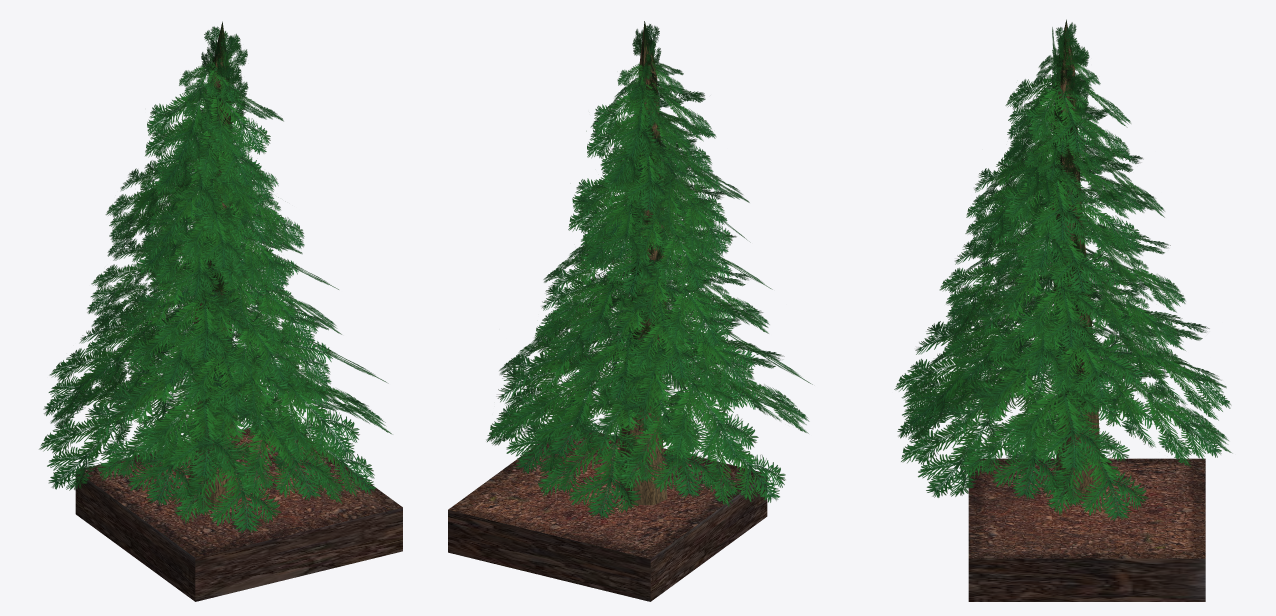
Rendered from GreenTree2023.glb.
3 renders of one model, left to right at view 1: azimuth 30°, elevation 25°; view 2: azimuth 150°, elevation 25°; view 3: azimuth 270°, elevation 25°, orthographic. The views are drawn at different scales.
Parts seen in each view (by area): view 1: SolidFloor; view 2: SolidFloor; view 3: SolidFloor.
Boxes of the visible parts, x1,y1,x2,y2 form: SolidFloor: [39, 21, 402, 601]; SolidFloor: [448, 21, 812, 601]; SolidFloor: [894, 19, 1232, 601].
Bounding box in the file's own units: 3.28 × 4.9 × 3.33.
3 materials, 3 textured.
